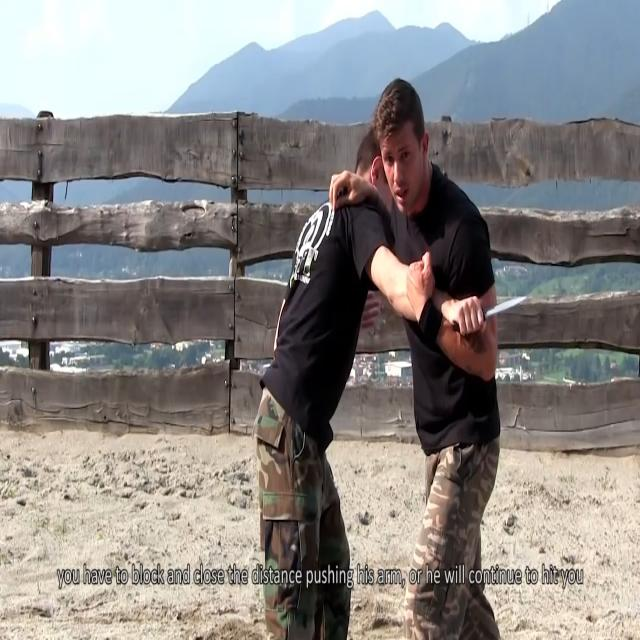knife: (451, 290, 530, 336)
